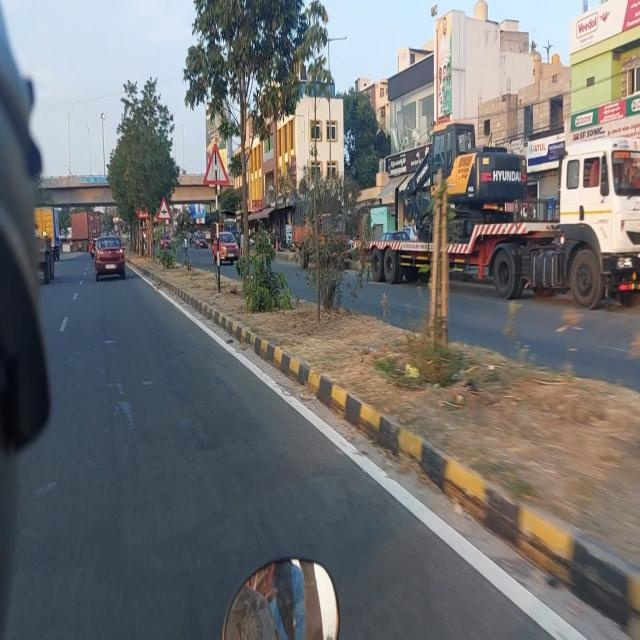bien_nguy_hiem: (202, 142, 231, 186), (156, 194, 172, 221)
